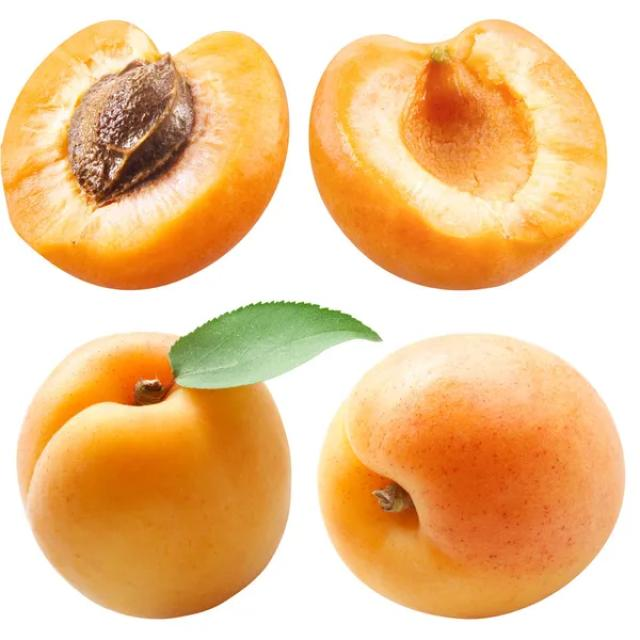kayisi: (325, 388, 640, 639), (310, 34, 615, 289), (25, 392, 291, 622)
kayisi-cekirdegi: (67, 56, 211, 205)
kayisi-yapragi: (160, 282, 387, 383)
